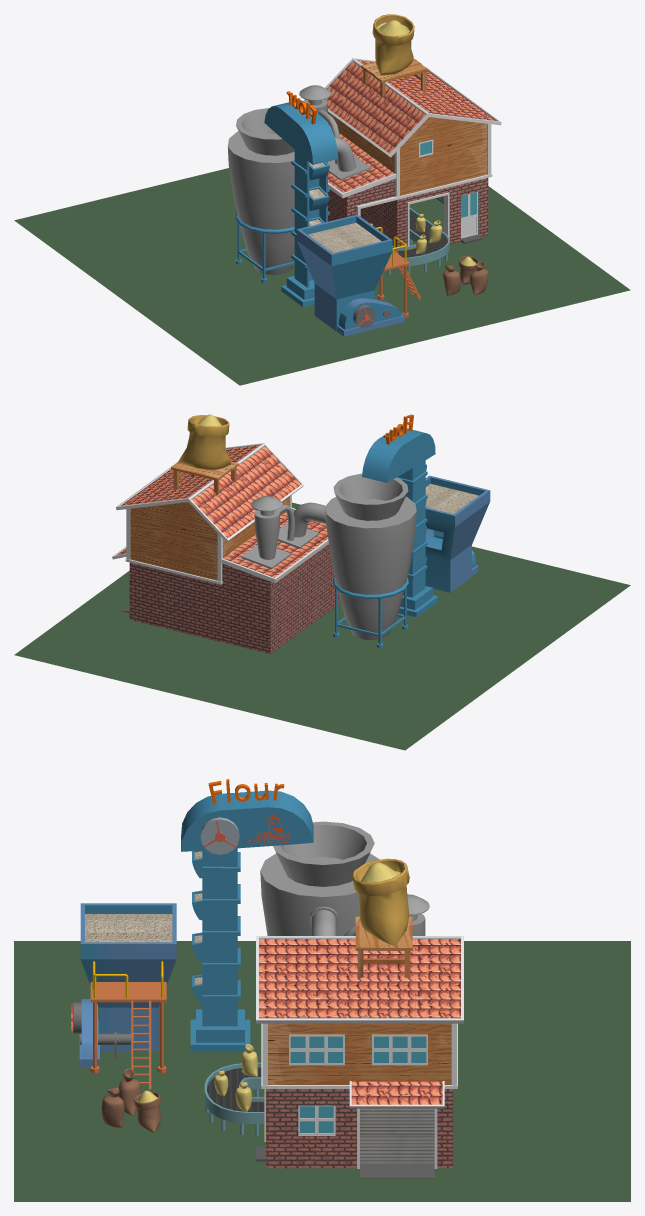
File: flour factory.obj
3 views of the same model, one above another, from view 1: azimuth 30°, elevation 25°; view 2: azimuth 150°, elevation 25°; view 3: azimuth 270°, elevation 25° (orthographic). The views are drawn at different scales.
Parts seen in each view (by area): view 1: plane Flou_factory, Flou_factory building, Flou_factory pot, Flou_factory reservior, Flou_factory elevator, Flou_factory bag; view 2: plane Flou_factory, Flou_factory building, Flou_factory pot, Flou_factory reservior, Flou_factory elevator; view 3: plane Flou_factory, Flou_factory building, Flou_factory elevator, Flou_factory reservior, Flou_factory pot, Flou_factory bag.
Boxes of the visible parts, x1,y1,x2,y2 form: plane Flou_factory: [14, 168, 630, 385]; Flou_factory building: [325, 14, 501, 274]; Flou_factory pot: [227, 85, 370, 282]; Flou_factory reservior: [296, 214, 421, 336]; Flou_factory elevator: [264, 91, 337, 306]; Flou_factory bag: [370, 214, 488, 295]; plane Flou_factory: [14, 502, 630, 750]; Flou_factory building: [112, 414, 339, 653]; Flou_factory pot: [241, 473, 416, 647]; Flou_factory reservior: [425, 475, 490, 592]; Flou_factory elevator: [362, 414, 438, 617]; plane Flou_factory: [14, 941, 630, 1201]; Flou_factory building: [204, 858, 463, 1178]; Flou_factory elevator: [181, 779, 313, 1051]; Flou_factory reservior: [71, 903, 176, 1089]; Flou_factory pot: [260, 821, 429, 935]; Flou_factory bag: [101, 1044, 257, 1132].
Size of the model in its own units: 1721 by 831 by 1721.
